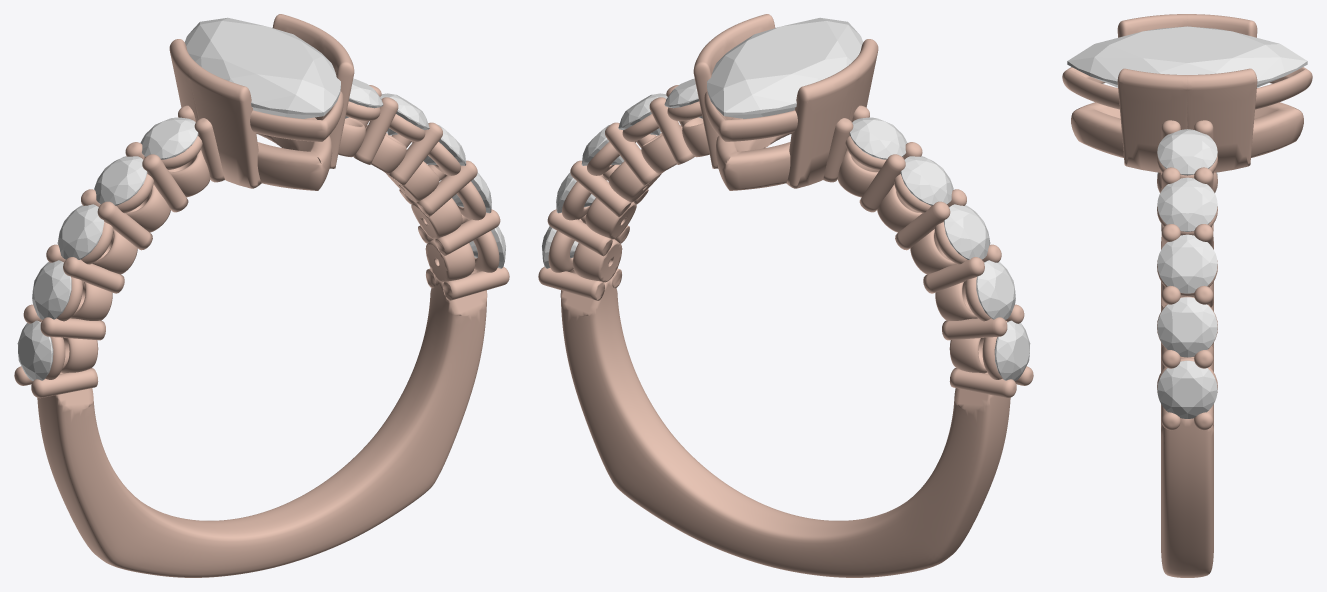
The model's file is diamond-marquise-rosegold-halfmoonbezel-europeanshank-11stone.glb.
3 renders of one model, left to right at view 1: azimuth 30°, elevation 25°; view 2: azimuth 150°, elevation 25°; view 3: azimuth 270°, elevation 25°, orthographic. The views are drawn at different scales.
Parts seen in each view (by area): view 1: metal.003, stone.002, dia.024, dia.025, dia.023, dia.026, dia.002, dia.030, dia.031; view 2: metal.003, stone.002, dia.024, dia.025, dia.023, dia.026, dia.002, dia.030, dia.031; view 3: metal.003, stone.002, dia.028, dia.029, dia.027, dia.030, dia.031.
Boxes of the visible parts, x1,y1,x2,y2 form: metal.003: (14, 14, 509, 577); stone.002: (184, 17, 340, 118); dia.024: (57, 204, 104, 259); dia.025: (94, 156, 147, 205); dia.023: (32, 260, 71, 319); dia.026: (140, 117, 198, 159); dia.002: (17, 320, 53, 380); dia.030: (380, 93, 429, 135); dia.031: (345, 78, 383, 118); metal.003: (538, 14, 1033, 577); stone.002: (707, 17, 863, 118); dia.024: (943, 204, 990, 259); dia.025: (900, 156, 953, 205); dia.023: (976, 260, 1015, 319); dia.026: (849, 117, 907, 159); dia.002: (994, 320, 1030, 380); dia.030: (618, 93, 667, 135); dia.031: (664, 78, 702, 118); metal.003: (1062, 14, 1312, 577); stone.002: (1067, 26, 1307, 87); dia.028: (1157, 297, 1217, 357); dia.029: (1157, 234, 1217, 293); dia.027: (1157, 360, 1217, 418); dia.030: (1157, 177, 1217, 231); dia.031: (1157, 129, 1217, 175).
Bounding box in the file's own units: 22.1 × 22.73 × 10.4.
